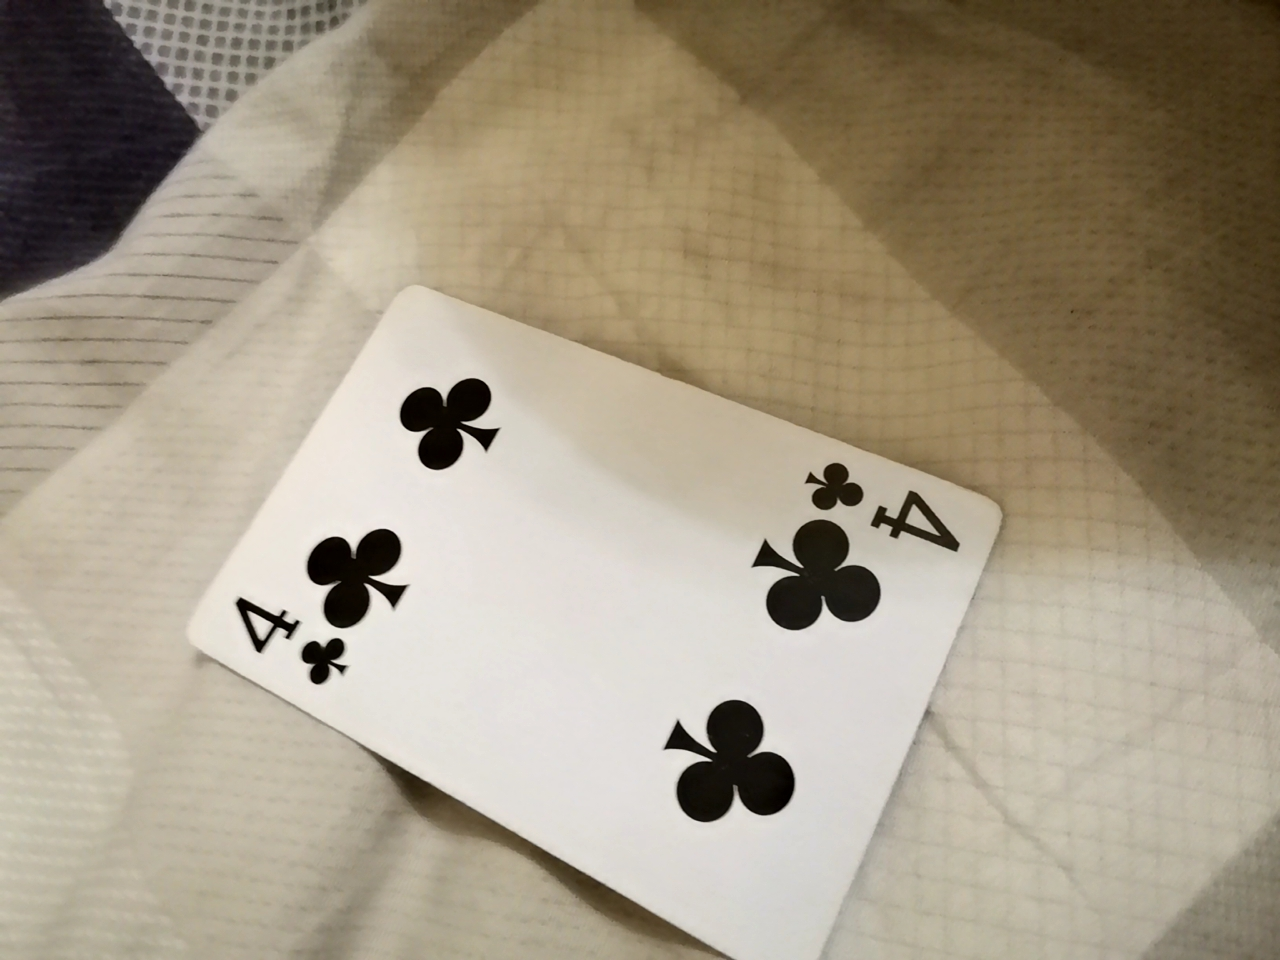mh 4: (171, 260, 1019, 954)
